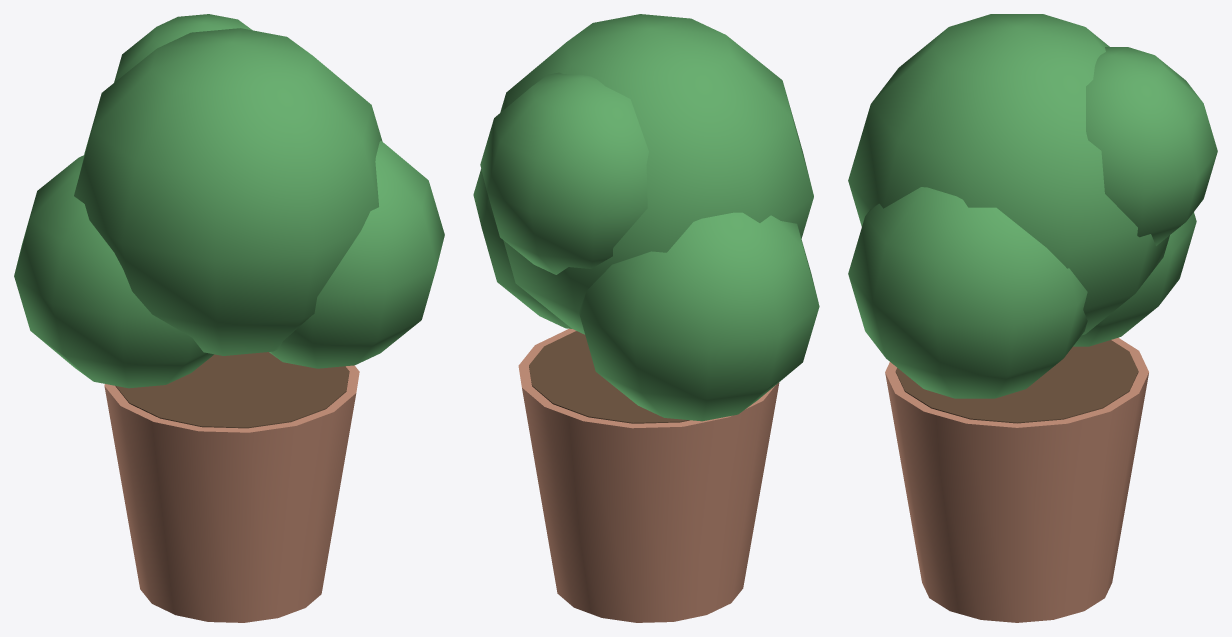
Rendered from PottedPlant.glb.
3 renders of one model, left to right at view 1: azimuth 30°, elevation 25°; view 2: azimuth 150°, elevation 25°; view 3: azimuth 270°, elevation 25°, orthographic. The views are drawn at different scales.
Visible parts, largest first — view 1: PottedPlant; view 2: PottedPlant; view 3: PottedPlant.
Part boxes in pixels (bbox=[...]): PottedPlant: bbox=[14, 14, 444, 622]; PottedPlant: bbox=[473, 14, 819, 622]; PottedPlant: bbox=[848, 14, 1217, 622].
Bounding box in the file's own units: 0.3883 × 0.58 × 0.35.
